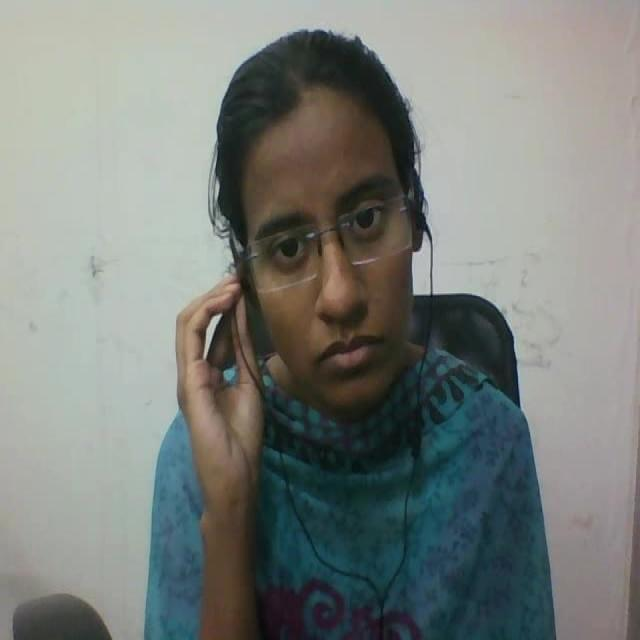Engaged: (191, 15, 499, 468)
